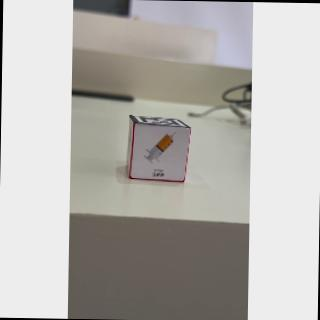Syringe: (134, 126, 188, 182)
